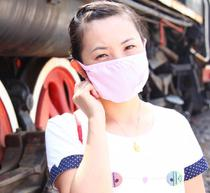face_mask: (82, 16, 147, 102)
